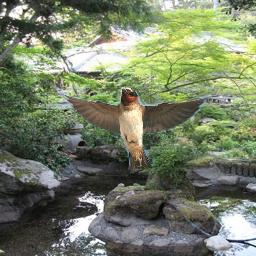Swallow: (56, 86, 211, 173)
